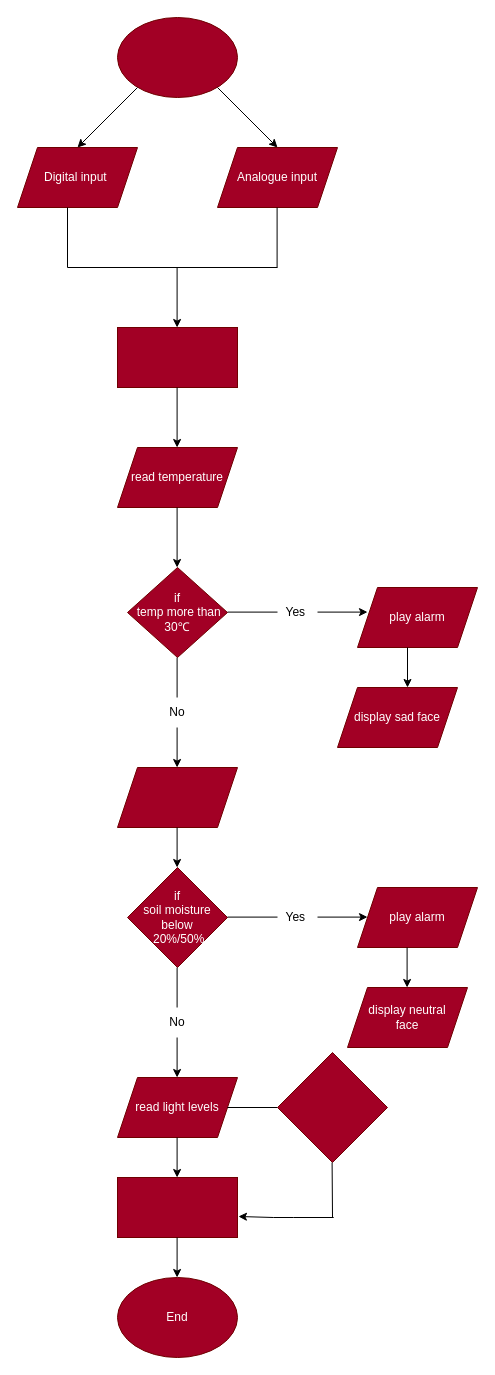
Image size: 495x1375. Some labels were removed from this diagram. The centre of each missing label's shape, as x and y in pixels:
"data is stored in csv file" goes at (177,1207).
"if decrease in sunlight/remains 0" goes at (332,1107).
"read soil moisture level" goes at (177,797).
"Start" goes at (177,57).
"System/sensor is set up" goes at (177,357).
